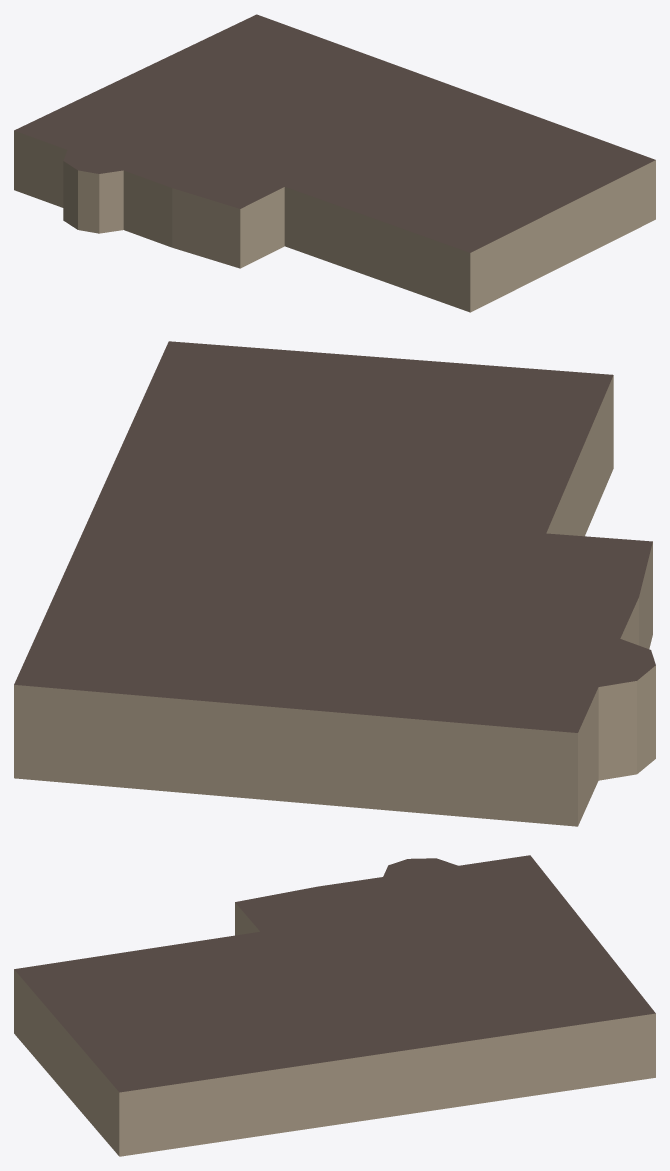
3 renders of one model, top to bottom at view 1: azimuth 30°, elevation 25°; view 2: azimuth 150°, elevation 25°; view 3: azimuth 270°, elevation 25°, orthographic. The views are drawn at different scales.
Visible parts, largest first — view 1: HP-w494394246; view 2: HP-w494394246; view 3: HP-w494394246.
Part boxes in pixels (<box>): HP-w494394246: <box>14,14,655,312</box>; HP-w494394246: <box>14,341,655,826</box>; HP-w494394246: <box>14,855,655,1156</box>.
Bounding box in the file's own units: 47.53 × 6 × 54.33.
